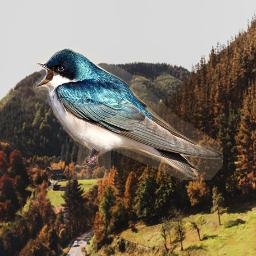Swallow: (33, 46, 223, 180)
